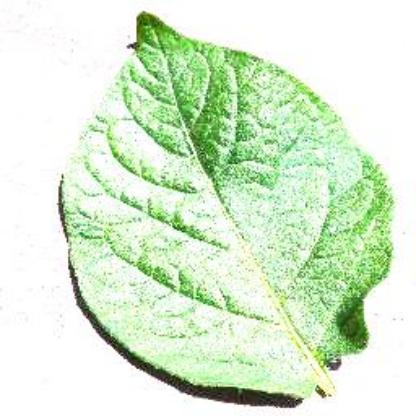Healthy-plant: (54, 6, 398, 402)
